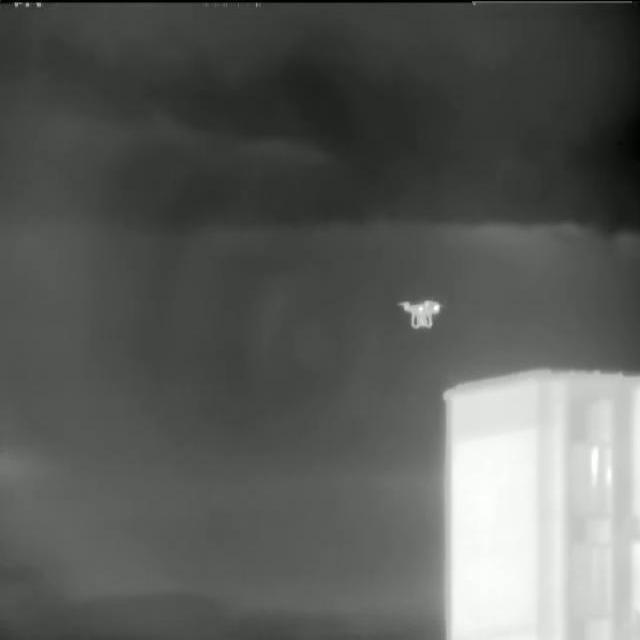DRONE: (395, 297, 446, 329)
